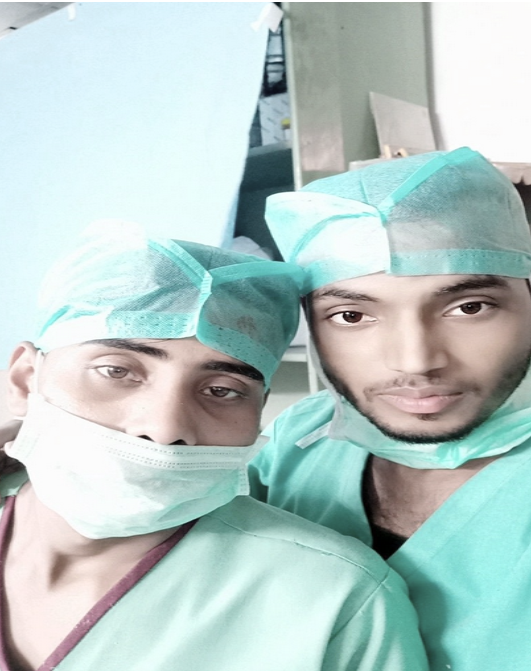mask_weared_incorrect: (17, 216, 303, 543), (271, 151, 530, 449)
